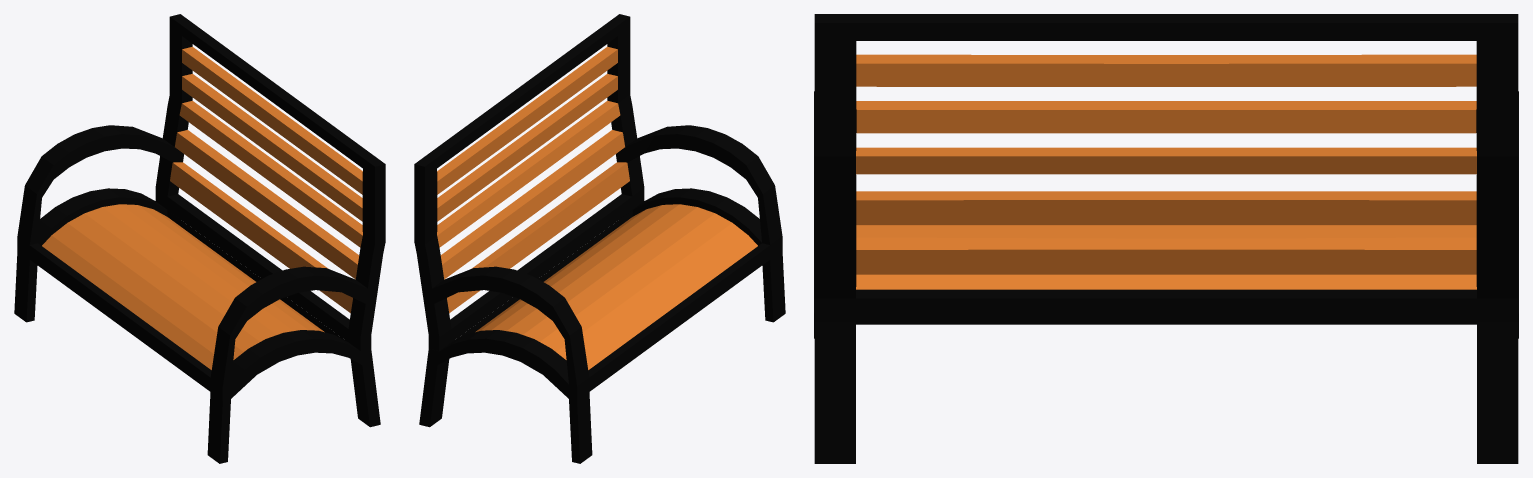
Rendered from bench.glb.
The picture shows the model from 3 angles, left to right: view 1: azimuth 30°, elevation 25°; view 2: azimuth 150°, elevation 25°; view 3: azimuth 270°, elevation 25°; orthographic projection. The views are drawn at different scales.
Parts seen in each view (by area): view 1: bench; view 2: bench; view 3: bench.
Boxes of the visible parts, box(x1,y1,x2,y2) form: bench: box(14, 14, 385, 463); bench: box(414, 14, 785, 463); bench: box(814, 14, 1518, 463).
Bounding box in the file's own units: 1.92 × 2.86 × 4.11.
